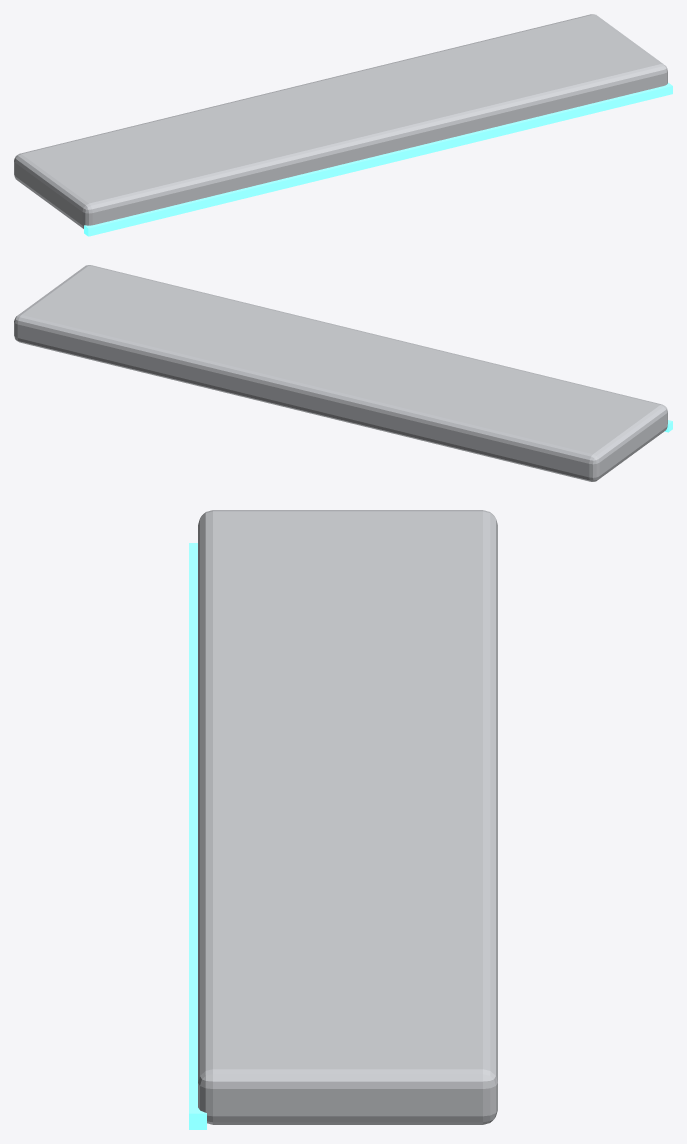
The model's file is wall_shelf_floating_plank.glb.
The picture shows the model from 3 angles, top to bottom: view 1: azimuth 30°, elevation 25°; view 2: azimuth 150°, elevation 25°; view 3: azimuth 270°, elevation 25°; orthographic projection. The views are drawn at different scales.
Parts seen in each view (by area): view 1: GD_wall_shelf_floating_plank__m0, GD_wall_shelf_floating_plank__m1; view 2: GD_wall_shelf_floating_plank__m0; view 3: GD_wall_shelf_floating_plank__m0, GD_wall_shelf_floating_plank__m1.
Part boxes in pixels (x1,y1,x2,y2): GD_wall_shelf_floating_plank__m0: (14, 14, 667, 228); GD_wall_shelf_floating_plank__m1: (84, 82, 672, 236); GD_wall_shelf_floating_plank__m0: (14, 265, 667, 481); GD_wall_shelf_floating_plank__m0: (198, 510, 497, 1124); GD_wall_shelf_floating_plank__m1: (189, 543, 206, 1129).
Size of the model in its own units: 0.9 by 0.04 by 0.206.
